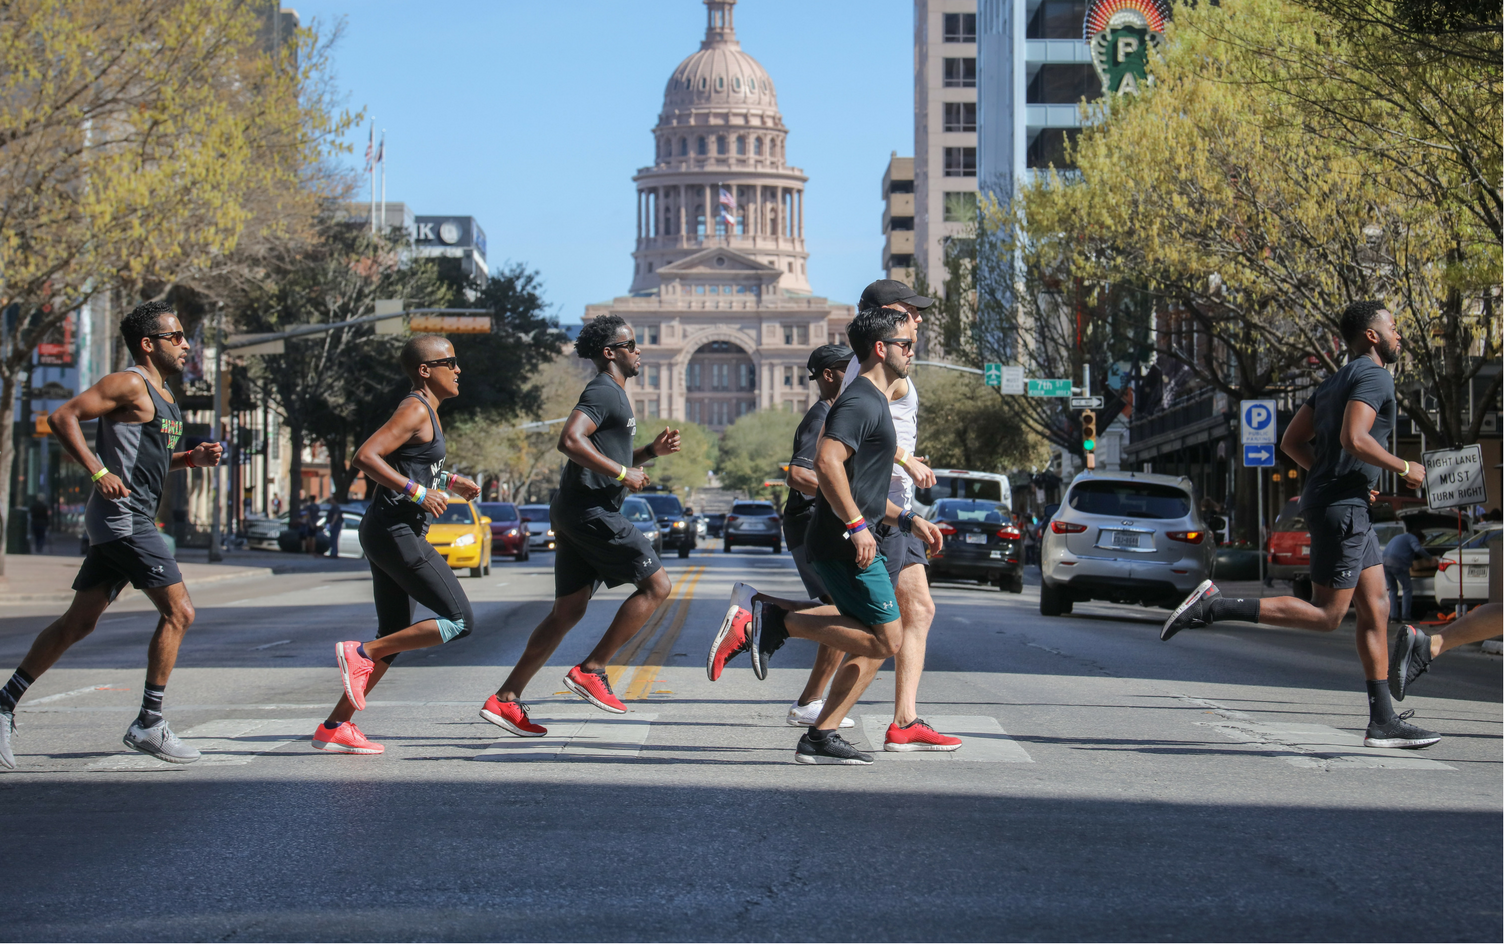Person: (1160, 298, 1445, 752), (2, 300, 225, 763), (749, 308, 945, 767), (481, 315, 682, 737), (310, 332, 474, 755)
